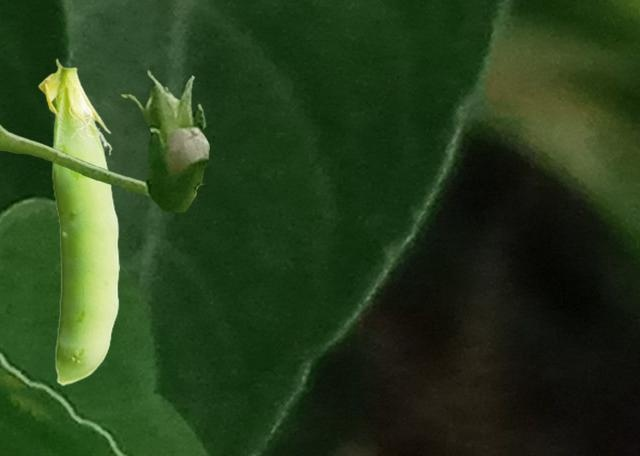pea: (38, 58, 118, 384)
